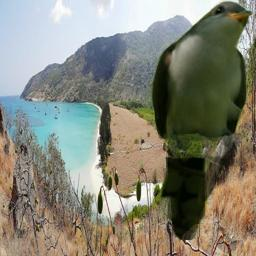Cuckoo: (150, 0, 254, 240)
